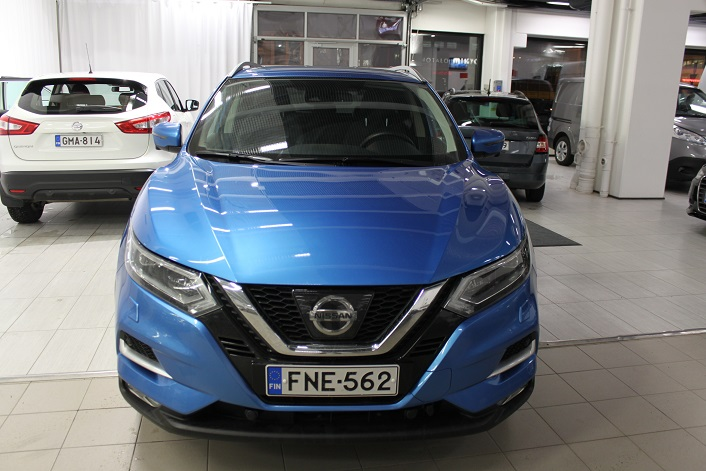license: (259, 360, 397, 402)
